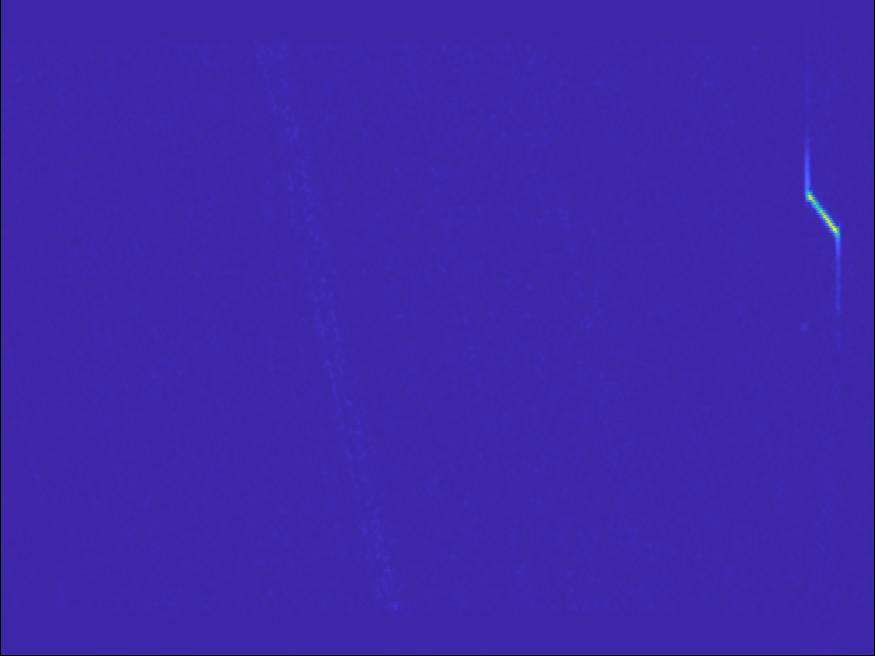Interference: (174, 39, 348, 165), (302, 282, 488, 360), (166, 175, 299, 279), (570, 309, 679, 360), (232, 528, 340, 567)
